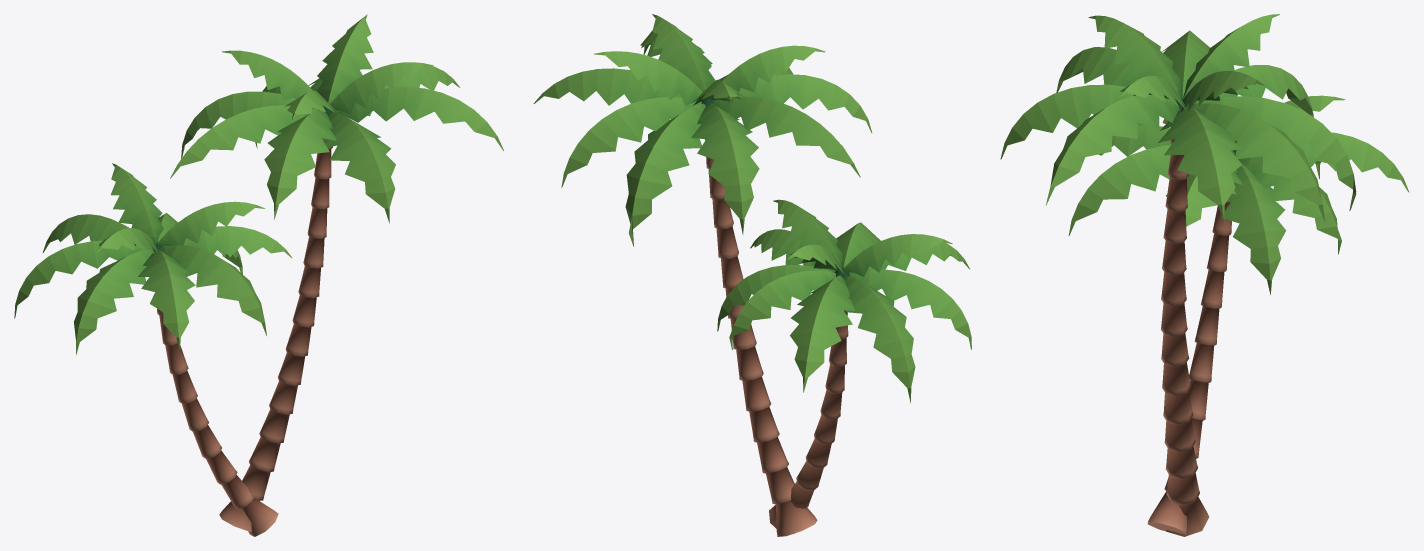
Rendered from palm_twin.glb.
3 views of the same model, side by side, from view 1: azimuth 30°, elevation 25°; view 2: azimuth 150°, elevation 25°; view 3: azimuth 270°, elevation 25° (orthographic). The views are drawn at different scales.
Parts seen in each view (by area): view 1: palm_twin; view 2: palm_twin; view 3: palm_twin.
Part boxes in pixels (<box>): palm_twin: <box>14,14,503,536</box>; palm_twin: <box>533,14,971,536</box>; palm_twin: <box>1000,14,1409,536</box>.
Size of the model in its own units: 9.58 by 10.28 by 7.06.
